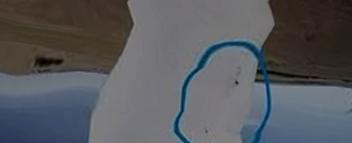faulty: (176, 39, 275, 132)
